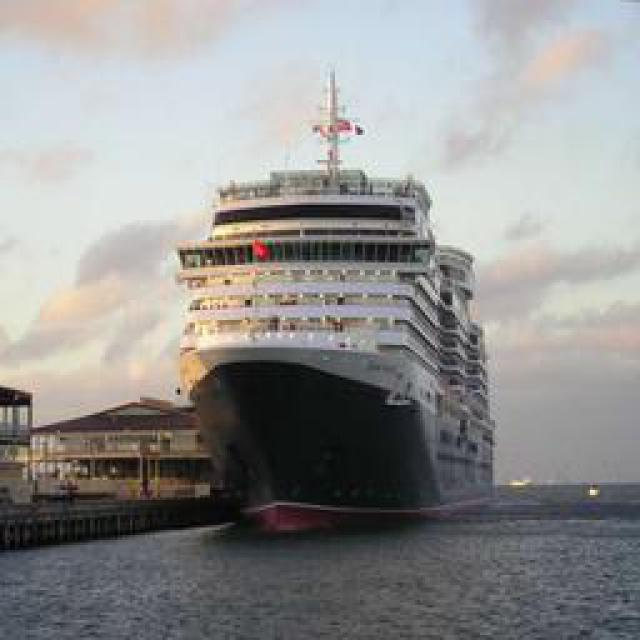Ship: (177, 70, 507, 525)
